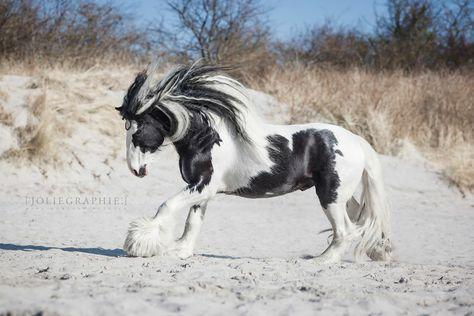horse: (114, 58, 393, 264)
